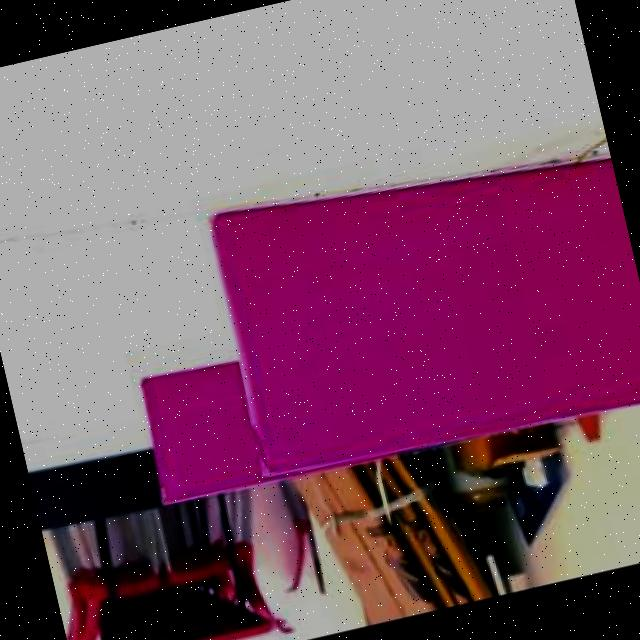xparking: (211, 132, 640, 471), (133, 354, 264, 506)
